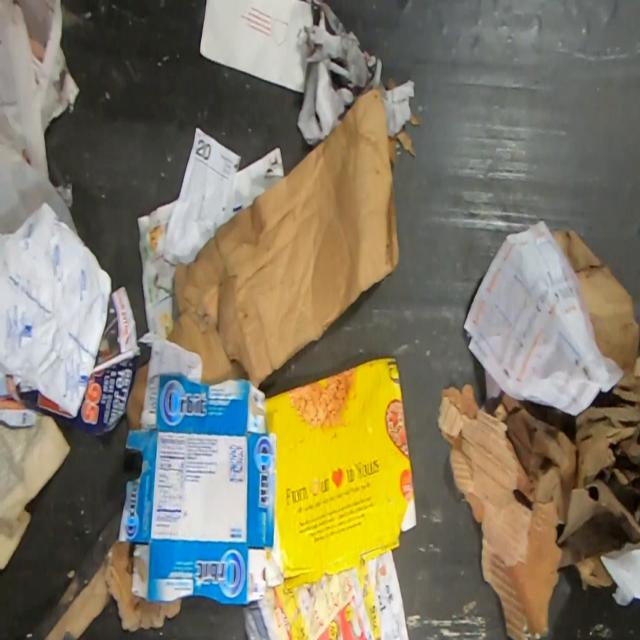cardboard: (164, 88, 400, 389), (117, 373, 277, 605), (264, 357, 417, 588), (436, 382, 563, 640), (500, 357, 640, 591), (0, 202, 113, 418), (551, 228, 640, 389), (102, 540, 184, 633), (43, 562, 114, 640), (126, 362, 148, 430)
soft_plastic: (0, 0, 78, 234)
